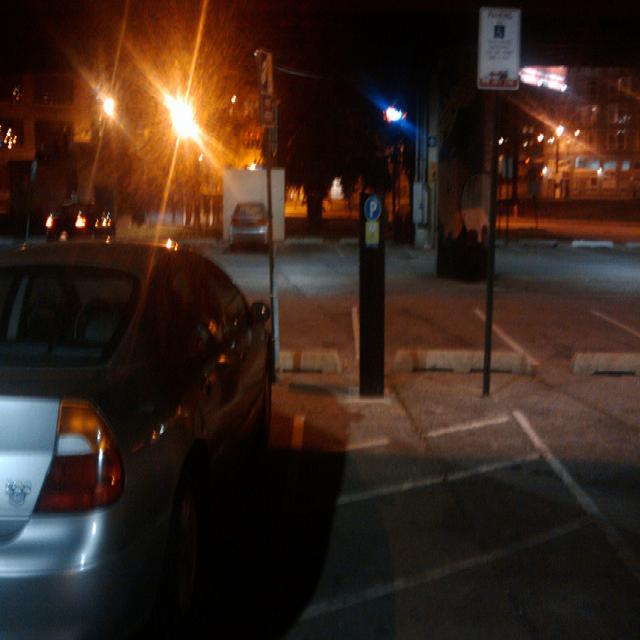Vehicle: (2, 240, 273, 634), (44, 199, 112, 242), (229, 202, 269, 253)
